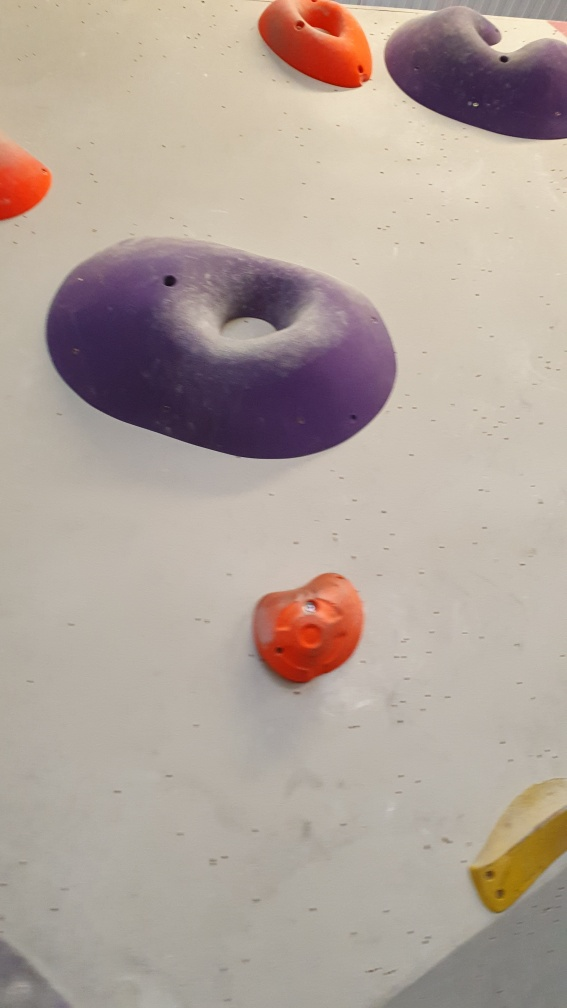Pocket: (48, 236, 399, 463), (256, 1, 376, 89)
